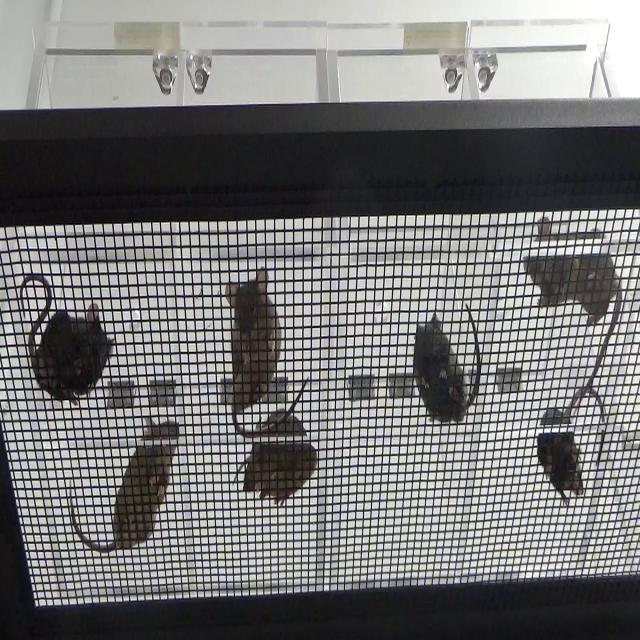scratch: (222, 266, 313, 431)
